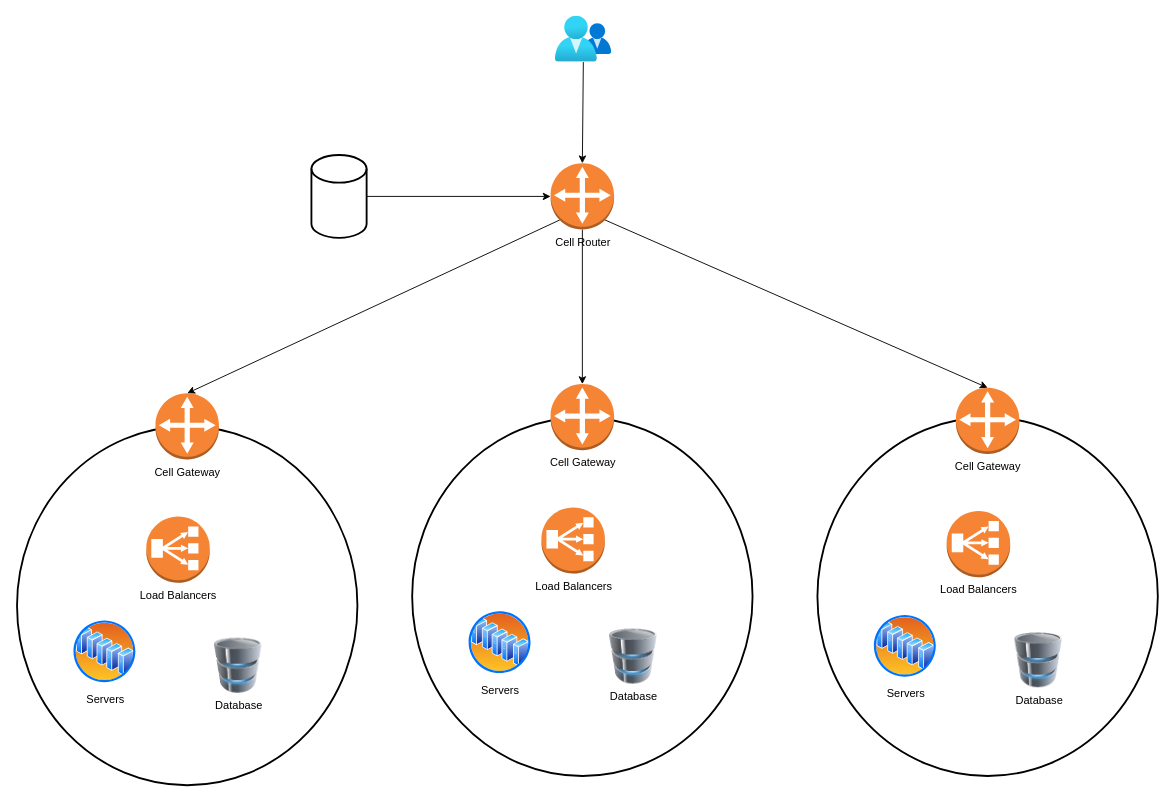
The diagram is 1174 pixels wide and 801 high, and some of its shapes have lost their labels. The shapes that lost their labels are listed below. From the top down, each one's centre as x and y in pixels, then its label:
the point at 583,39: Customers
the point at 338,196: Cell Mapping
